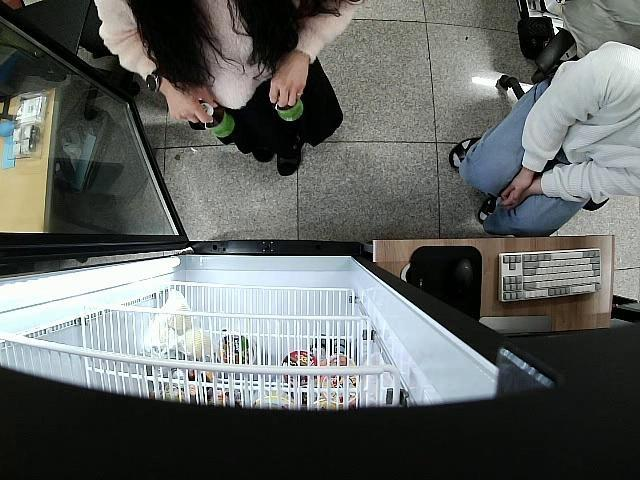19_17cha: (196, 98, 237, 140), (275, 91, 303, 123)
